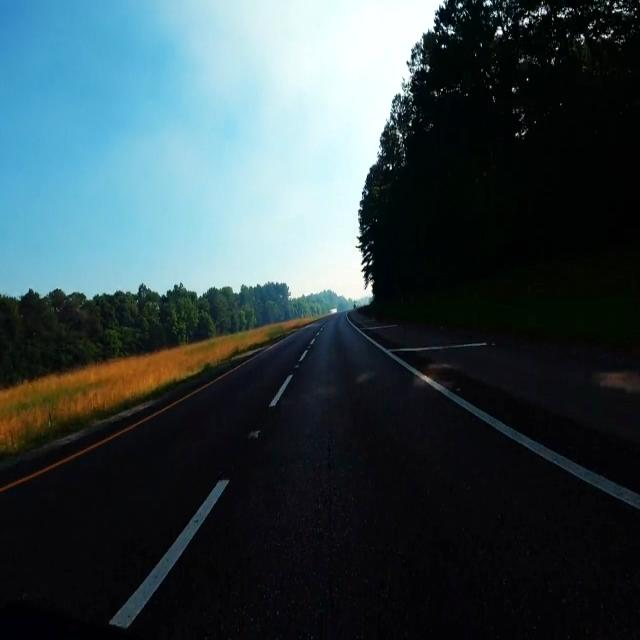road: (0, 314, 640, 637), (394, 336, 640, 493)
